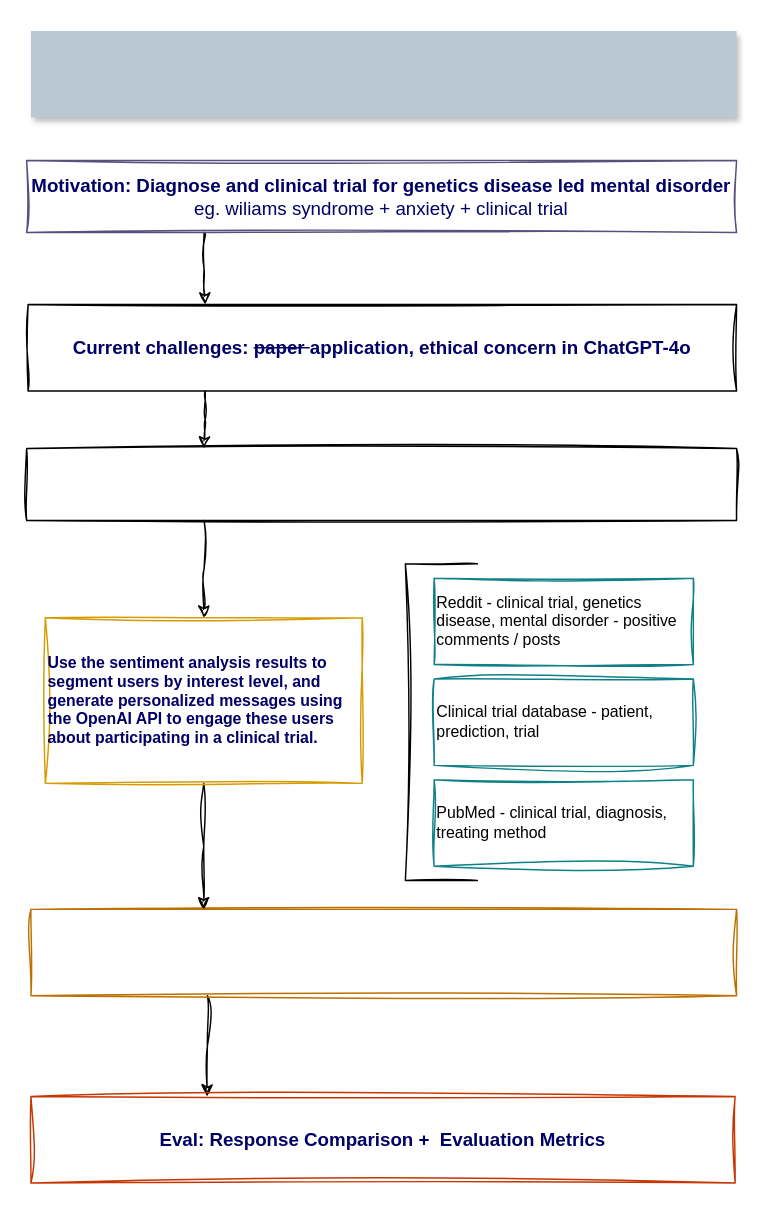
Some shapes in this 769 by 1208 pixel diagram are drawn without their labels. The shapes that lost their labels are listed below. From the top down, each one's centre as x and y in pixels, then its label:
At [384,75]: "STEPS".
At [381,484]: "Solution: fine-tuned model + webUI".
At [383,952]: "Outcome: WebUI(knowledge card&QA), TrialGPT enpowered".
